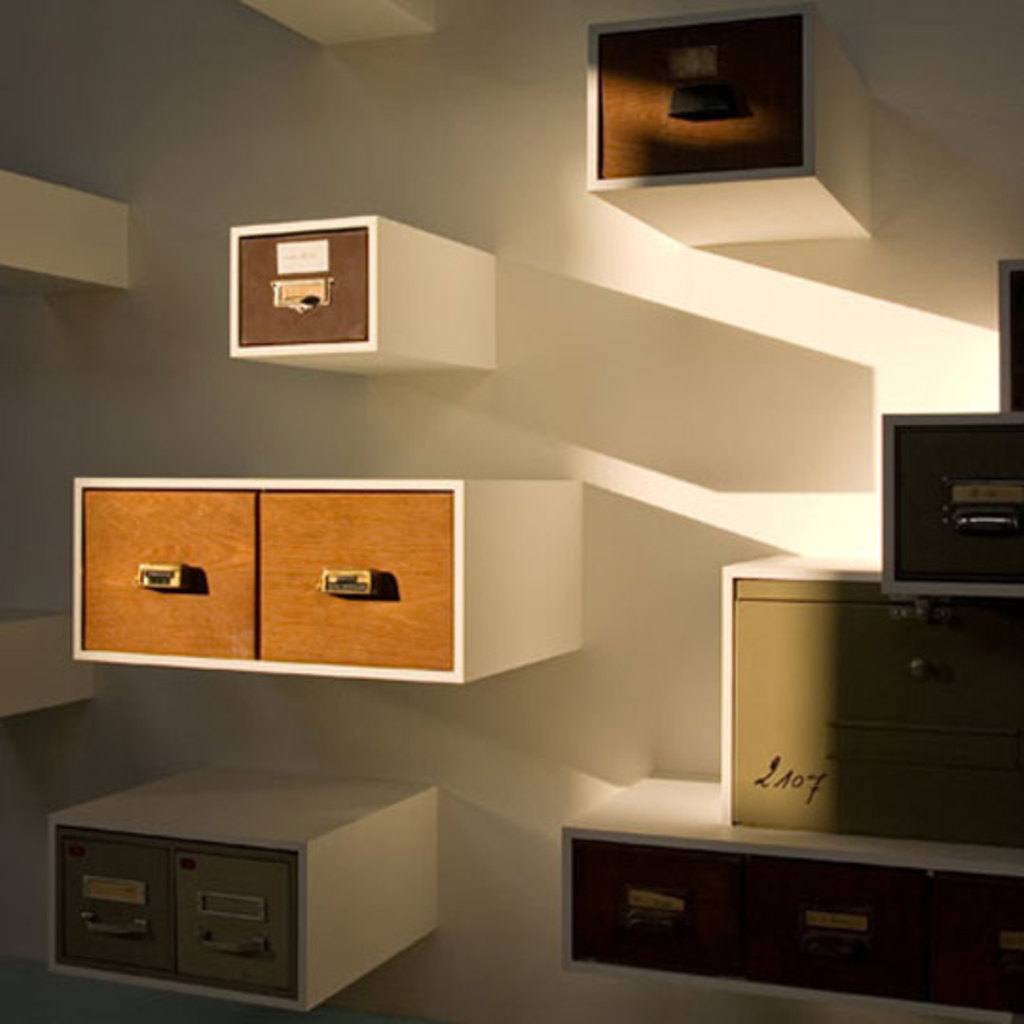cabinet door: (734, 593, 1024, 826), (249, 498, 452, 668), (86, 495, 255, 650), (605, 44, 791, 156), (750, 880, 920, 988), (170, 856, 299, 987), (59, 831, 179, 970), (905, 434, 1024, 567), (238, 238, 374, 344), (594, 858, 734, 960), (931, 893, 1024, 1008)
handle: (828, 700, 1004, 751), (78, 895, 151, 949), (314, 556, 386, 609), (274, 282, 342, 330), (193, 926, 270, 964), (952, 503, 1024, 539), (121, 566, 191, 602)
